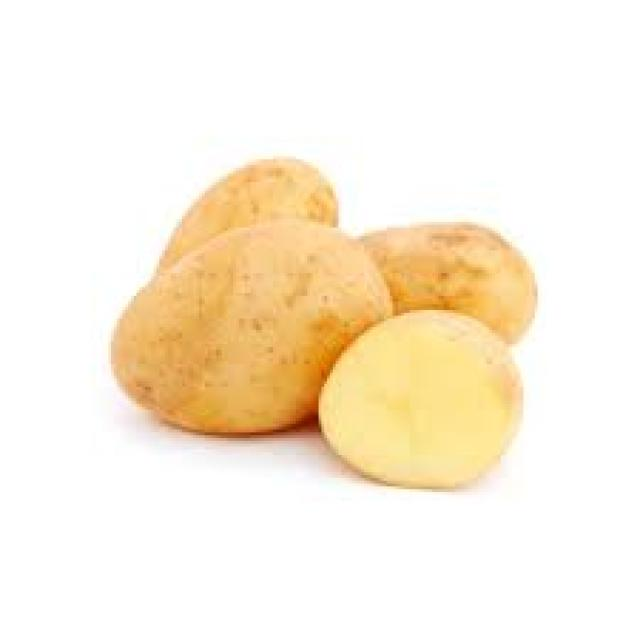Potato: (107, 205, 434, 443), (309, 330, 555, 493)
